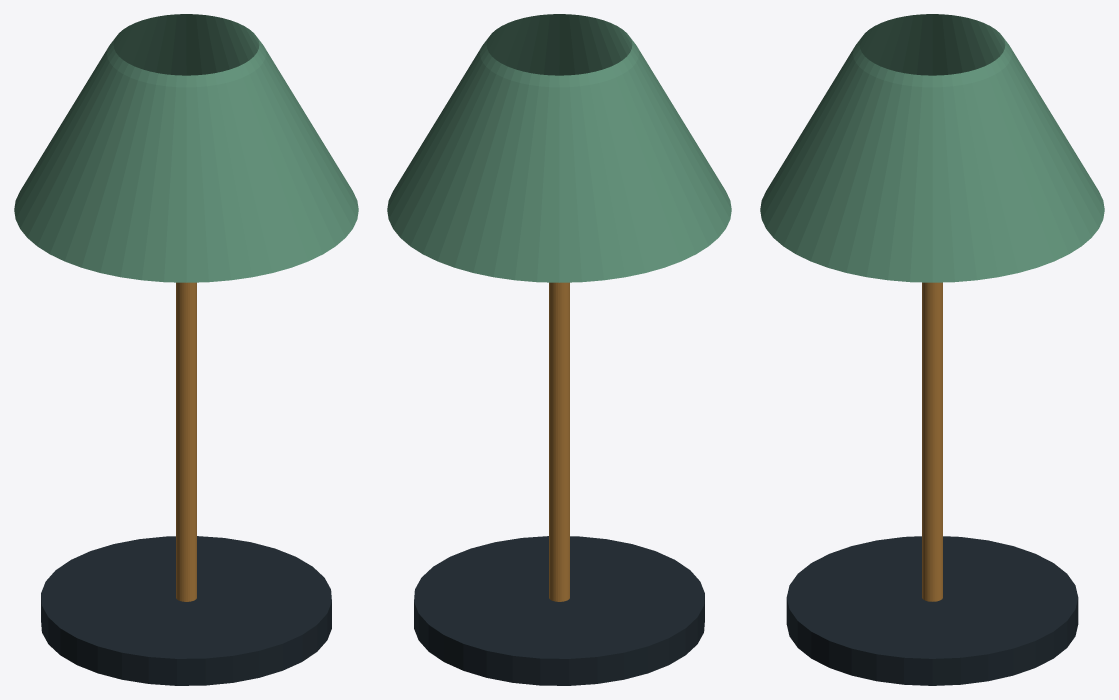
Rendered from atelier-lamp.obj.
3 renders of one model, left to right at view 1: azimuth 30°, elevation 25°; view 2: azimuth 150°, elevation 25°; view 3: azimuth 270°, elevation 25°, orthographic.
Size of the model in its own units: 0.52 by 0.965 by 0.52.
